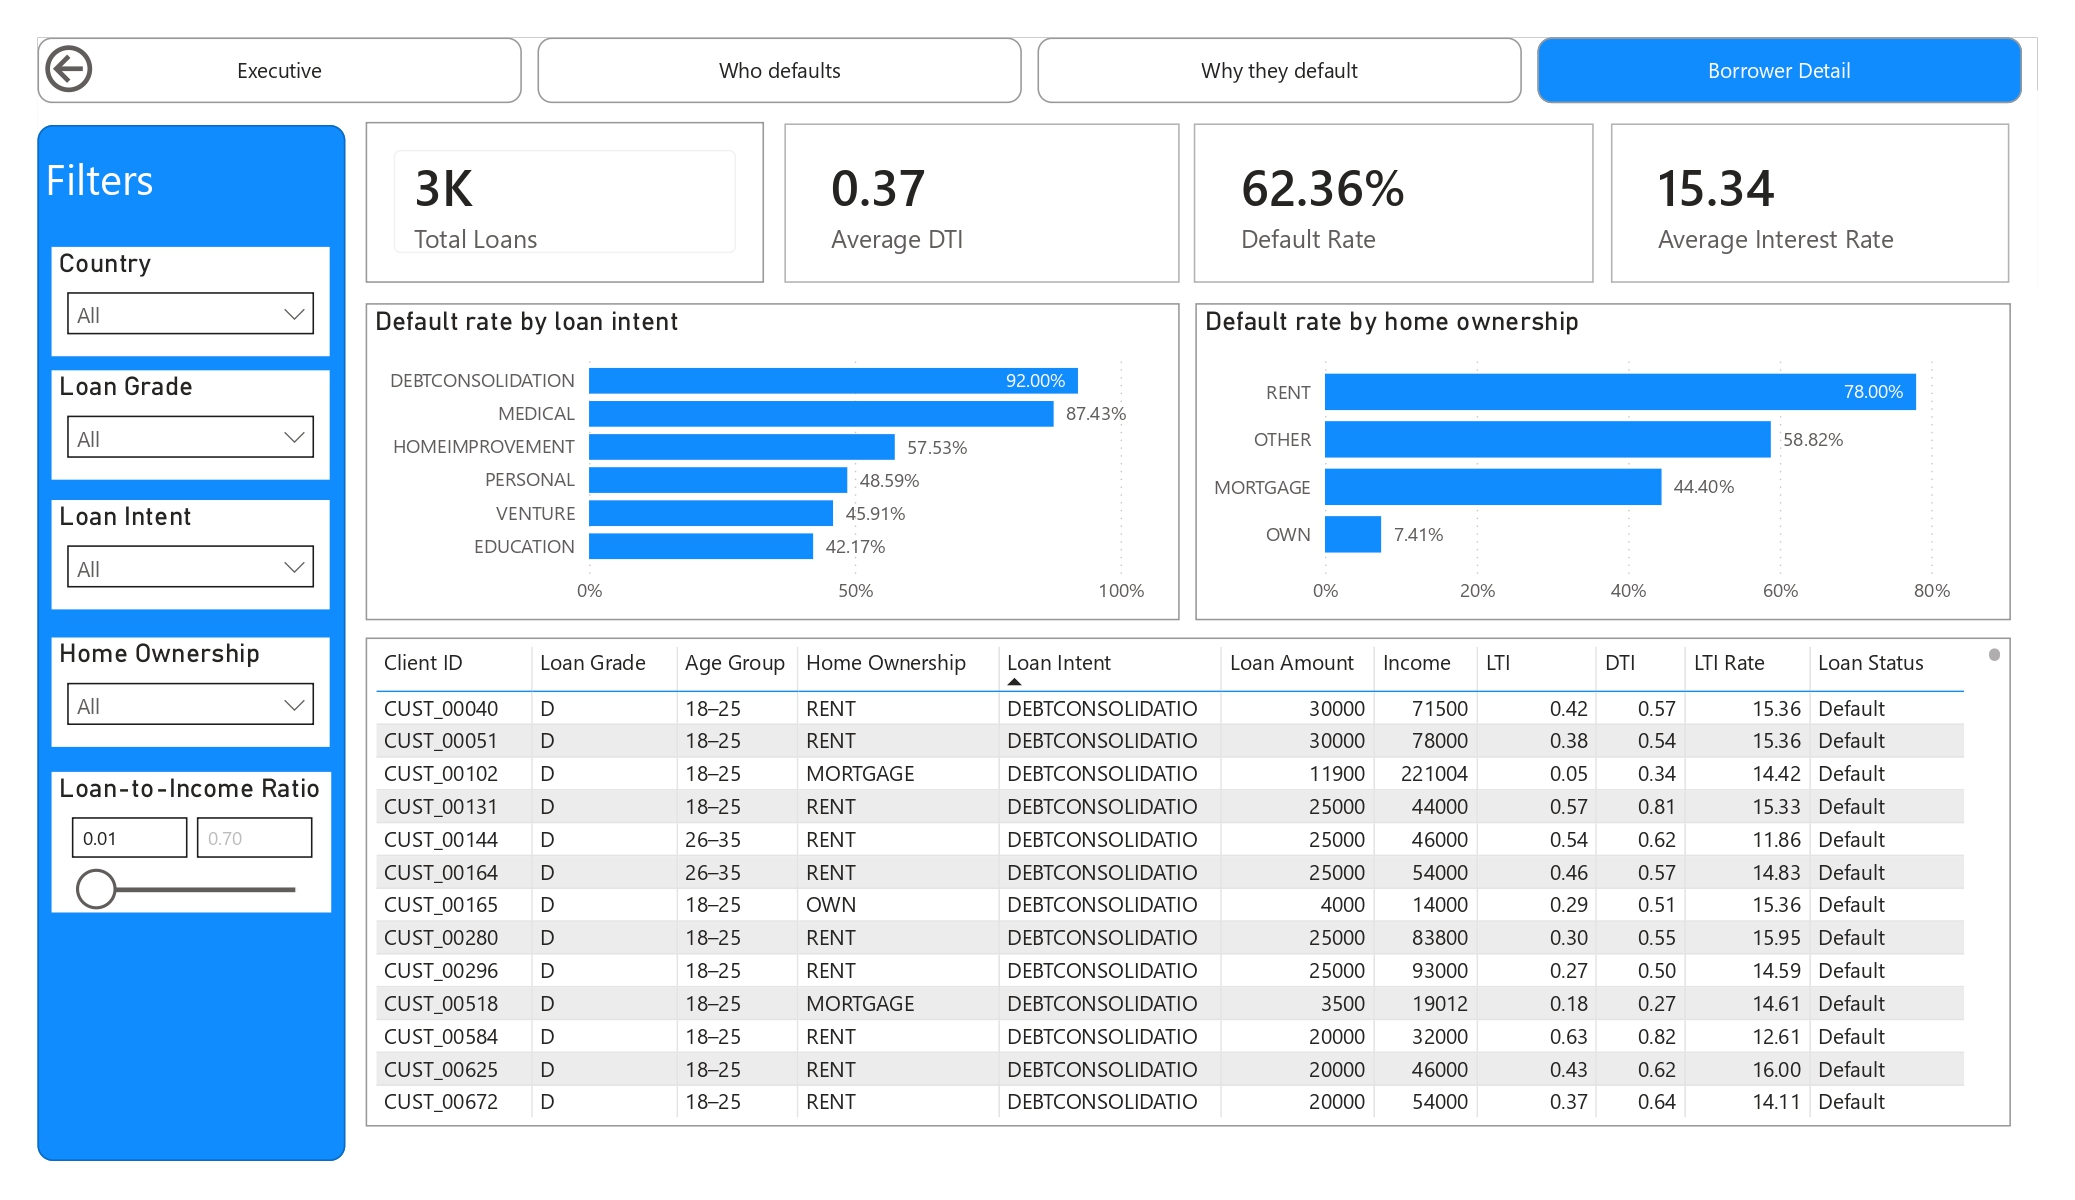

The dashboard page shown, as its layout file describes it:
{"tool":"powerbi","page":{"name":"Borrower Detail","canvas":[1280,720],"ordinal":3},"visuals":[{"type":"shape","box":[0,55.7,197.1,662.9],"z":0},{"type":"cardVisual","fields":{"Data":["_Measures.Average Interest Rate"]},"box":[1007,54.8,255.4,102.4],"z":1000},{"type":"cardVisual","fields":{"Data":["_Measures.Average DTI"]},"box":[477.6,54.8,253.9,102.4],"z":2000},{"type":"cardVisual","fields":{"Data":["_Measures.Default Rate"]},"box":[740.1,54.8,255.4,102.4],"z":3000},{"type":"pageNavigator","box":[0,0,1272.9,42.9],"z":4000},{"type":"textbox","box":[0,67.1,198.6,52.9],"z":5000},{"type":"slicer","title":"Country","fields":{"Values":["Dim_Geography.country"]},"box":[8.6,134.3,178.6,70],"z":6000},{"type":"slicer","title":"Loan Grade","fields":{"Values":["Dim_Loan_Type.loan_grade"]},"box":[8.6,212.9,178.6,70],"z":7000},{"type":"slicer","title":"Loan Intent","fields":{"Values":["Dim_Loan_Type.loan_intent"]},"box":[8.6,295.7,178.6,70],"z":8000},{"type":"slicer","title":"Home Ownership","fields":{"Values":["Dim_Borrower.person_home_ownership"]},"box":[8.6,384.3,178.6,70],"z":9000},{"type":"slicer","title":"Loan-to-Income Ratio","fields":{"Values":["Fact_CreditRisk.loan_to_income_ratio"]},"box":[8.7,470.3,178.9,89.5],"z":10000},{"type":"actionButton","box":[0,0,100,40],"z":11000},{"type":"cardVisual","fields":{"Data":["_Measures.Total Loans"]},"box":[210,54.3,255,102.9],"z":12000},{"type":"tableEx","fields":{"Values":["Fact_CreditRisk.client_ID","Dim_Loan_Type.loan_grade","Dim_Borrower.Age_Group","Dim_Borrower.person_home_ownership","Dim_Loan_Type.loan_intent","Fact_CreditRisk.loan_amount","Fact_CreditRisk.person_income","Fact_CreditRisk.loan_to_income_ratio","Fact_CreditRisk.debt_to_income_ratio","Fact_CreditRisk.loan_int_rate","Fact_CreditRisk.Loan Status Label"]},"box":[210,384.3,1052.9,312.9],"z":13000},{"type":"clusteredBarChart","title":"Default rate by loan intent","fields":{"Category":["Dim_Loan_Type.loan_intent"],"Y":["_Measures.Default Rate"]},"box":[210,170,521.4,202.9],"z":13001},{"type":"clusteredBarChart","title":"Default rate by home ownership","fields":{"Category":["Dim_Borrower.person_home_ownership"],"Y":["_Measures.Default Rate"]},"box":[741.4,170,521.4,202.9],"z":13002}]}

Visuals, with their boxes on the page's 1280x720 design canvas (x1, y1, x2, y2). These are canvas units, not pixel positions in the 2075x1200 screenshot, which may show the page scaled, cropped or inside an application window:
shape: 0 56 197 719
cardVisual - _Measures.Average Interest Rate: 1007 55 1262 157
cardVisual - _Measures.Average DTI: 478 55 732 157
cardVisual - _Measures.Default Rate: 740 55 996 157
pageNavigator: 0 0 1273 43
textbox: 0 67 199 120
"Country" slicer: 9 134 187 204
"Loan Grade" slicer: 9 213 187 283
"Loan Intent" slicer: 9 296 187 366
"Home Ownership" slicer: 9 384 187 454
"Loan-to-Income Ratio" slicer: 9 470 188 560
actionButton: 0 0 100 40
cardVisual - _Measures.Total Loans: 210 54 465 157
tableEx - Fact_CreditRisk.client_ID x Dim_Loan_Type.loan_grade: 210 384 1263 697
"Default rate by loan intent" clusteredBarChart: 210 170 731 373
"Default rate by home ownership" clusteredBarChart: 741 170 1263 373
